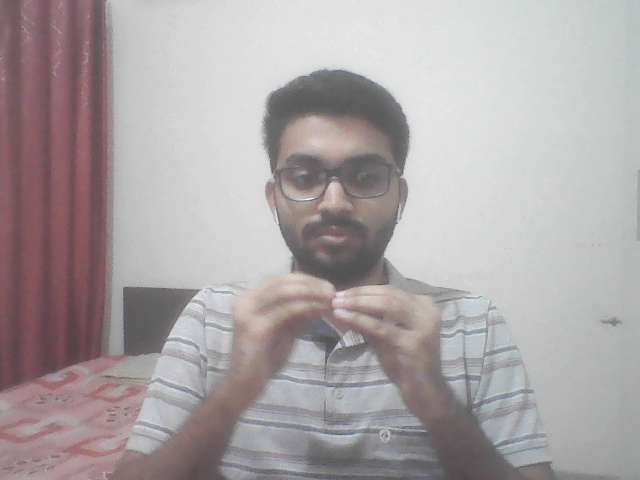more: (209, 266, 479, 410)
